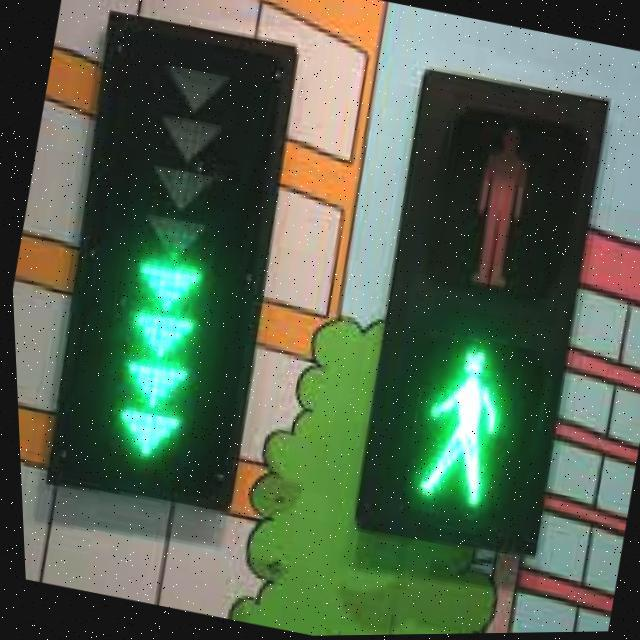greenlight: (393, 62, 579, 540)
